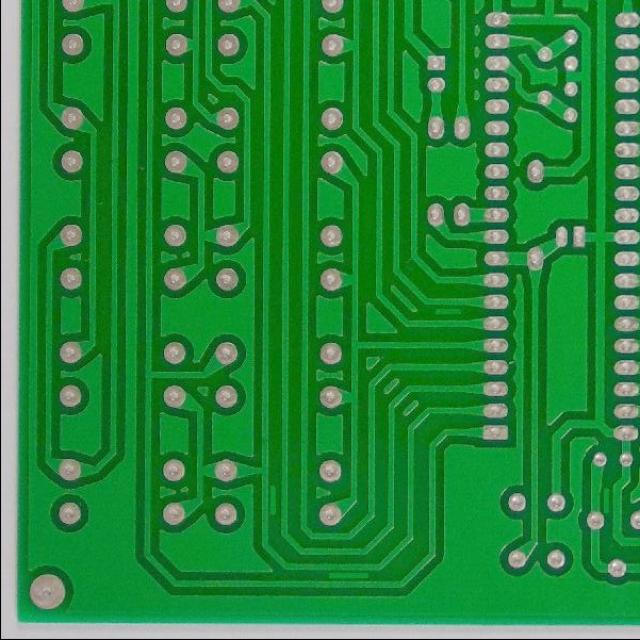spurious_copper: (320, 563, 372, 587), (593, 481, 617, 521), (429, 301, 469, 324), (263, 478, 283, 523)
